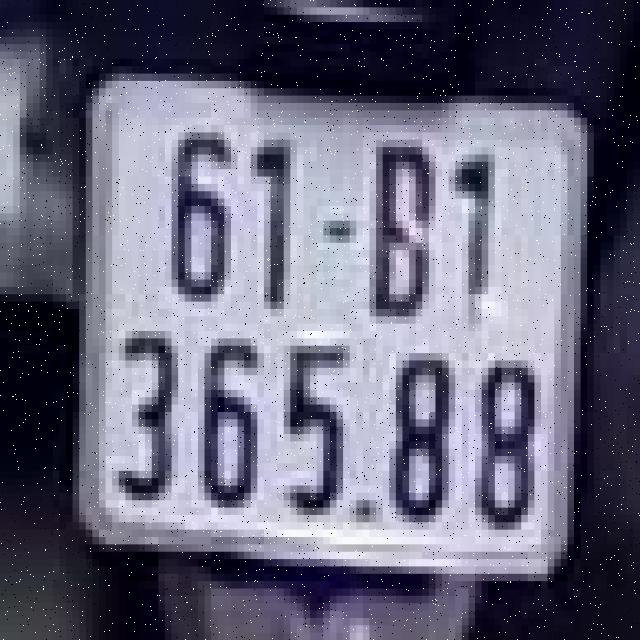1: (446, 144, 498, 328), (251, 129, 297, 320)
3: (112, 320, 185, 504)
5: (284, 334, 349, 518)
6: (165, 122, 231, 306), (198, 331, 264, 508)
8: (386, 346, 459, 522), (475, 353, 541, 537)
B: (370, 132, 436, 324)
